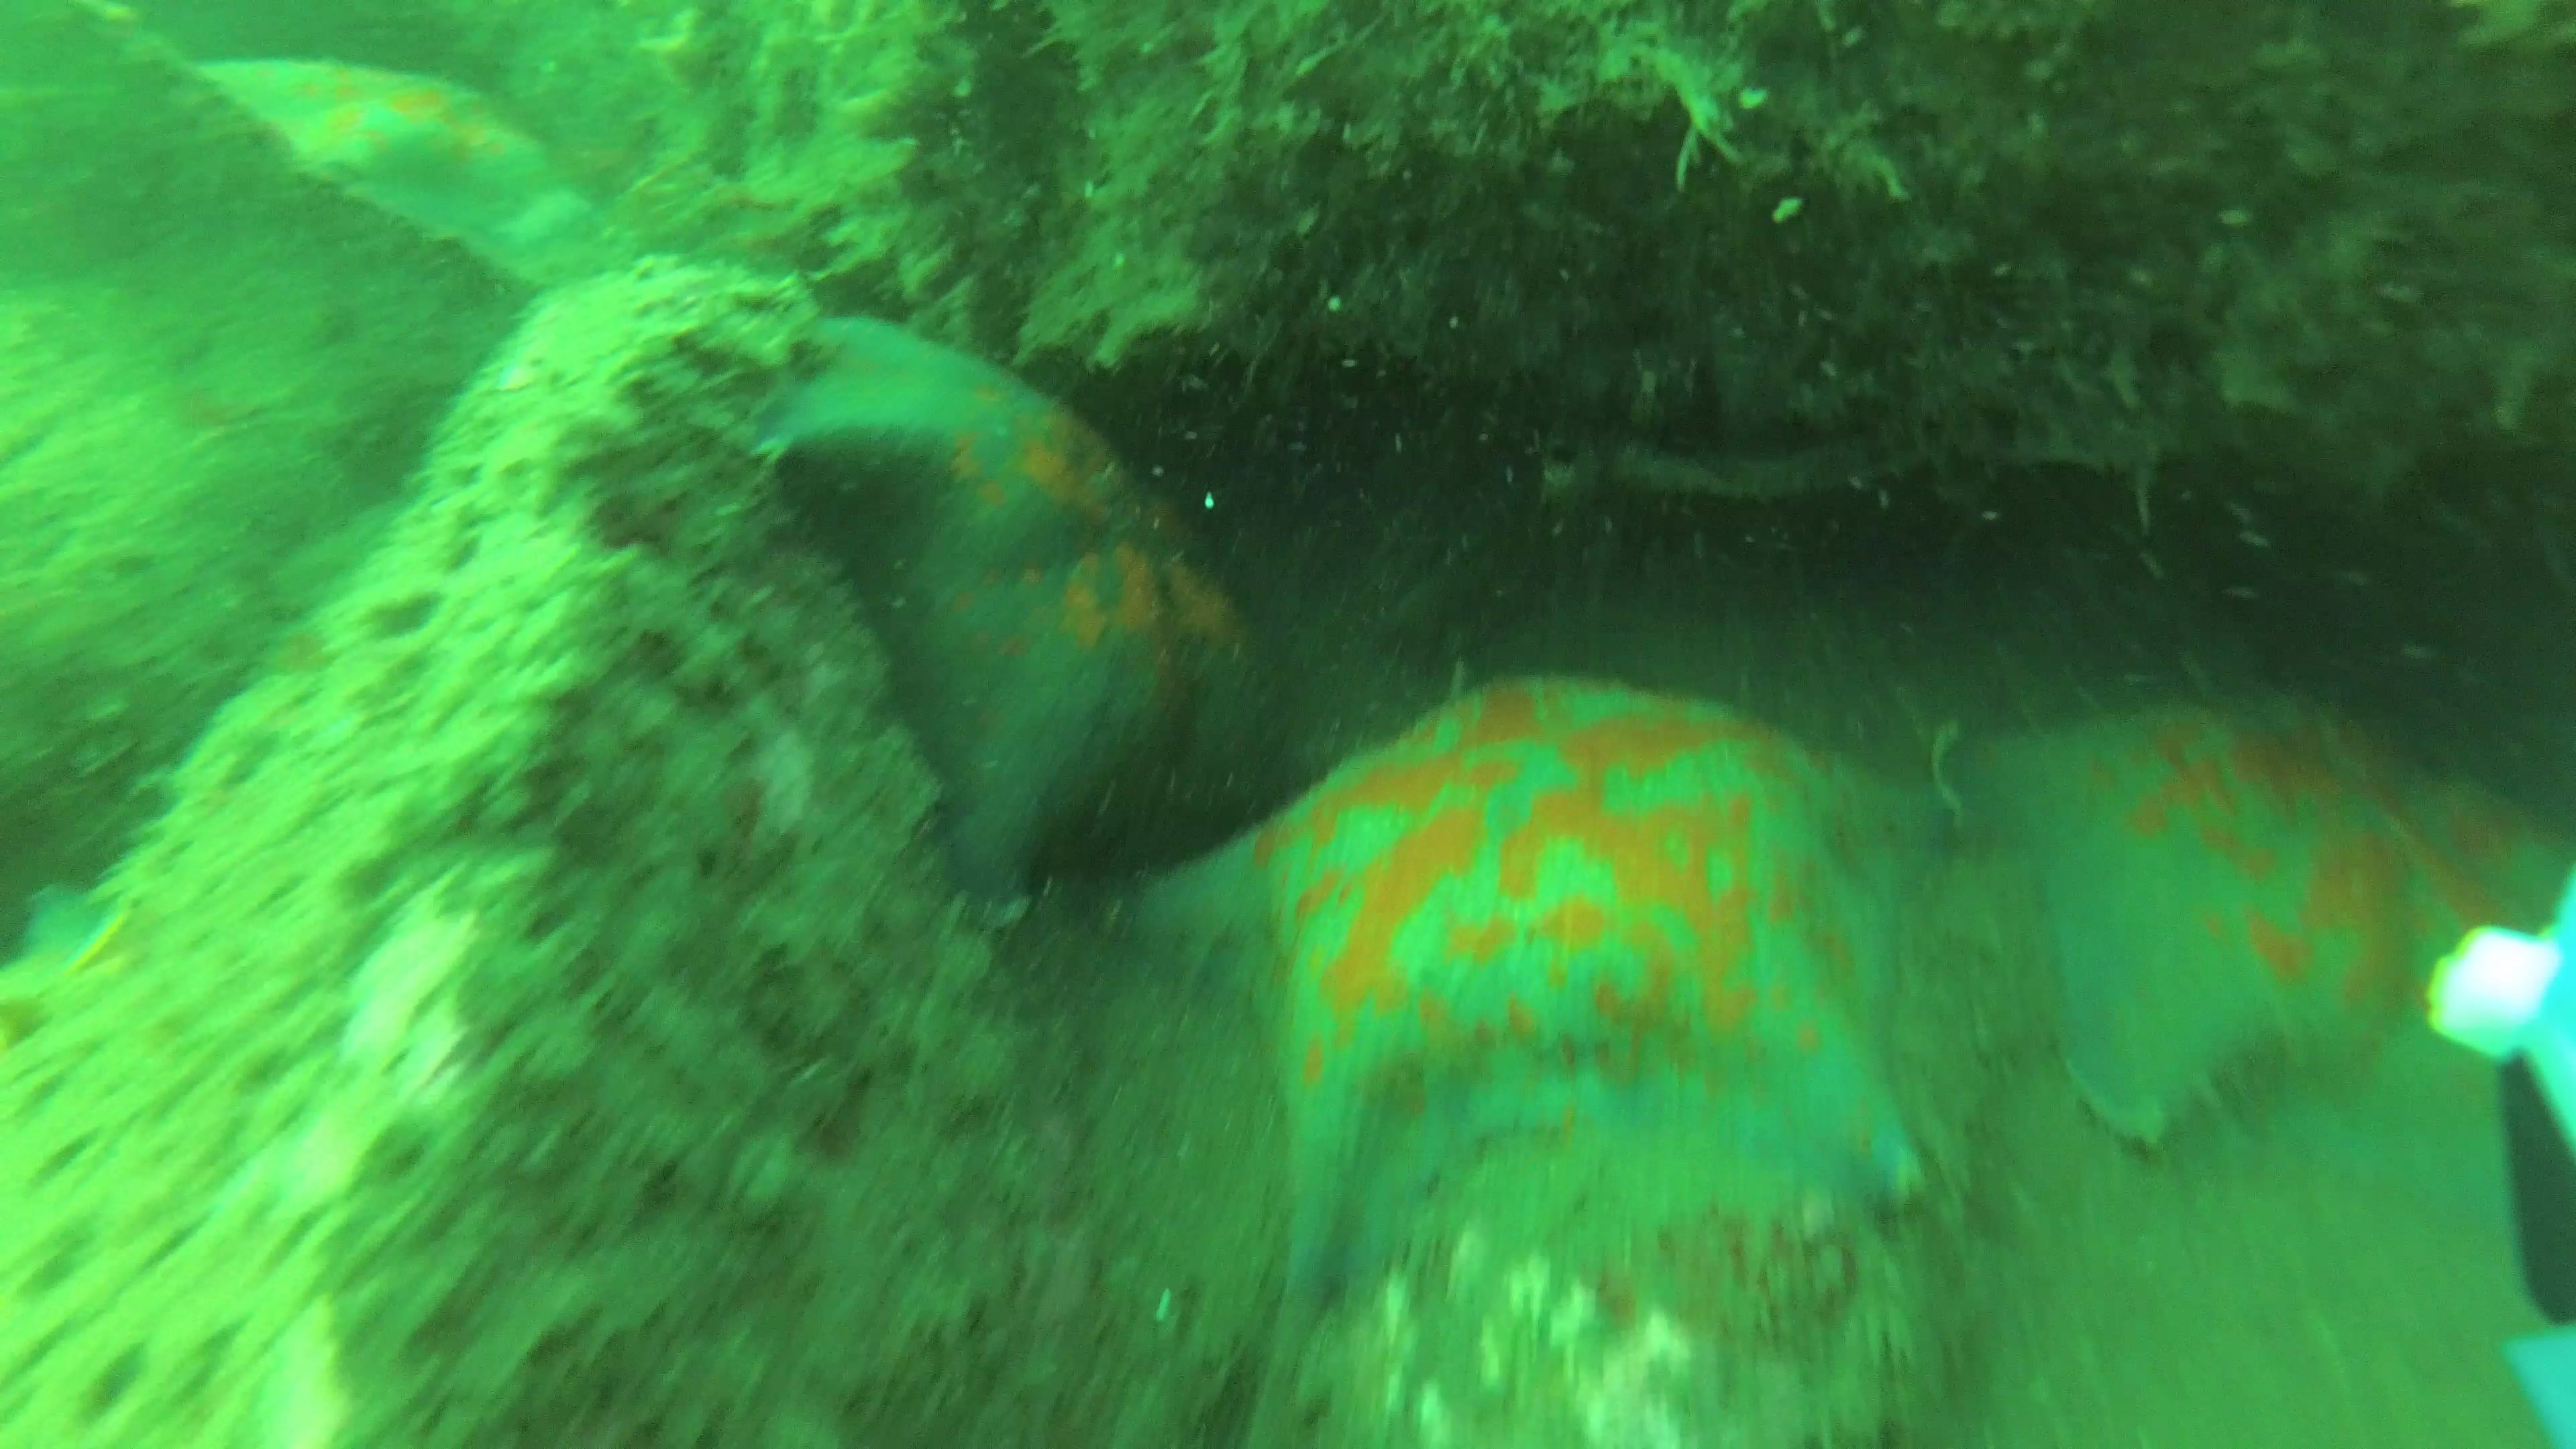starfish: (1141, 678, 1957, 1362), (763, 299, 1235, 931), (1932, 702, 2571, 1148), (180, 60, 550, 200)
